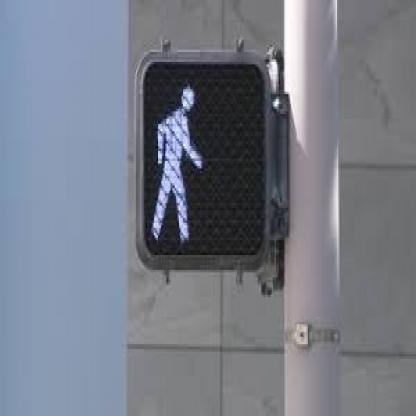Walk: (142, 62, 265, 261)
